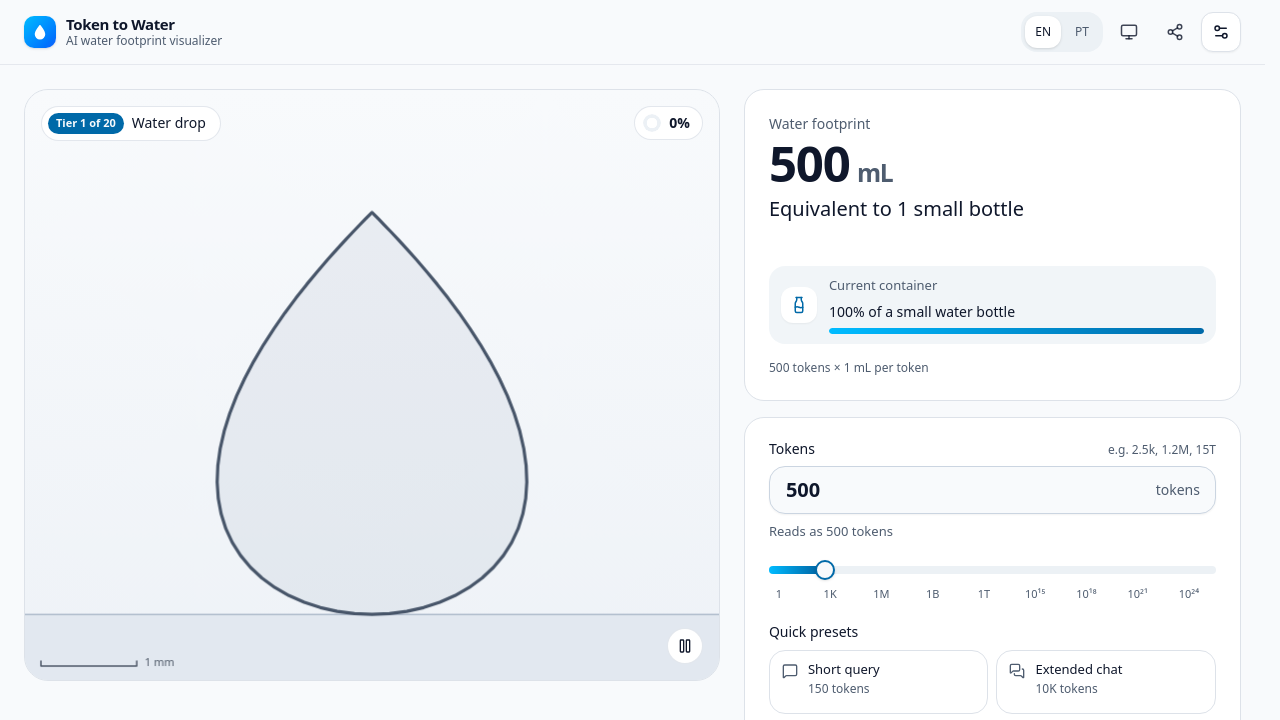
Scenario: App › changes the water rate from Settings
Click the button named "Settings". click: {"x": 1221, "y": 32}
box: left=1201, top=12, right=1241, bottom=52
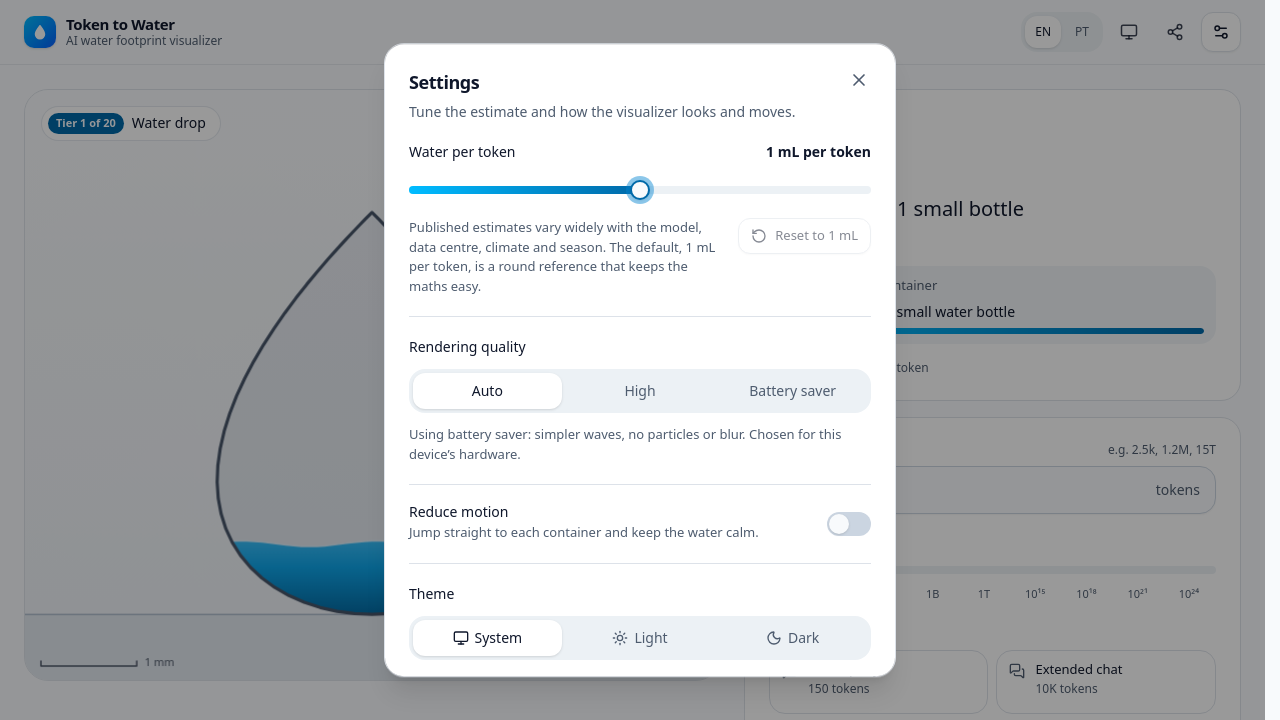
Press End in the slider named "Water per token", box left=630, top=180, right=650, bottom=200
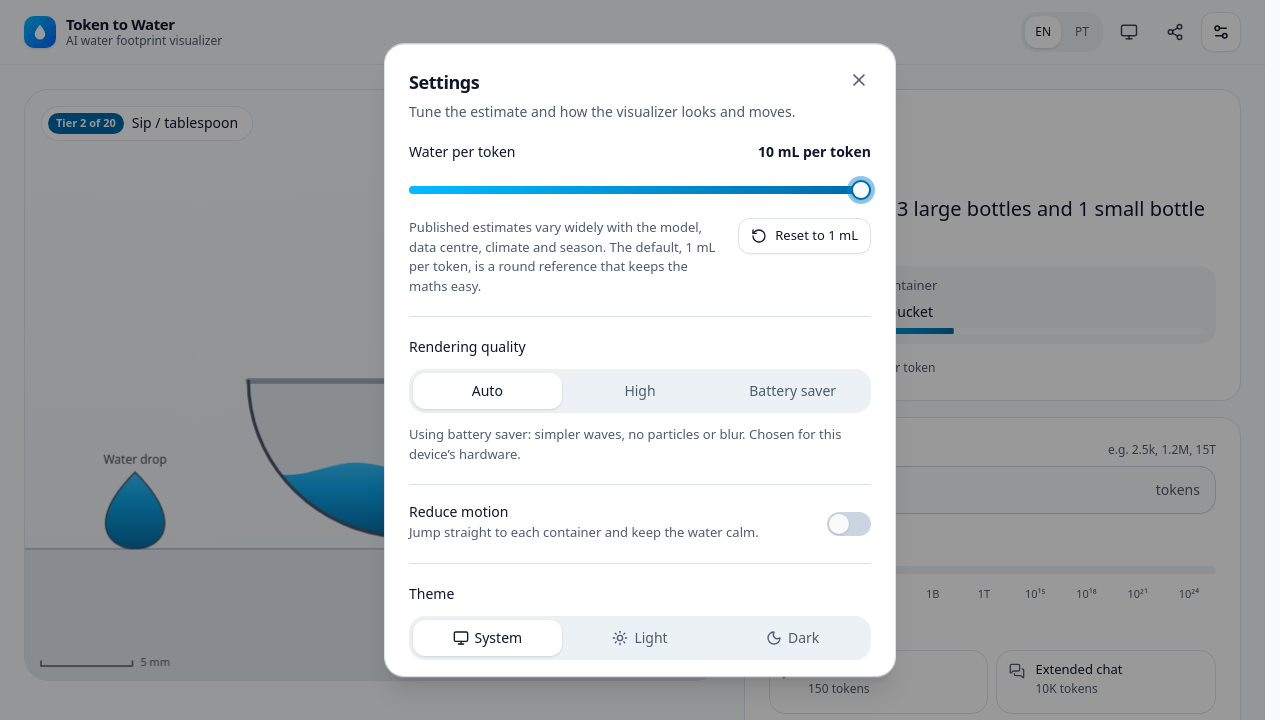
expect the text "500 tokens × 10 mL per token" is shown: met, box left=769, top=359, right=936, bottom=376
